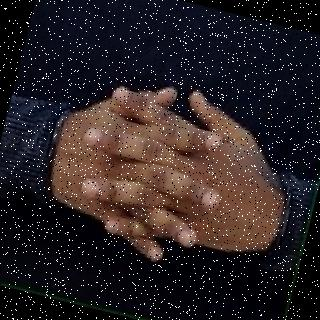W: (35, 40, 297, 295)
